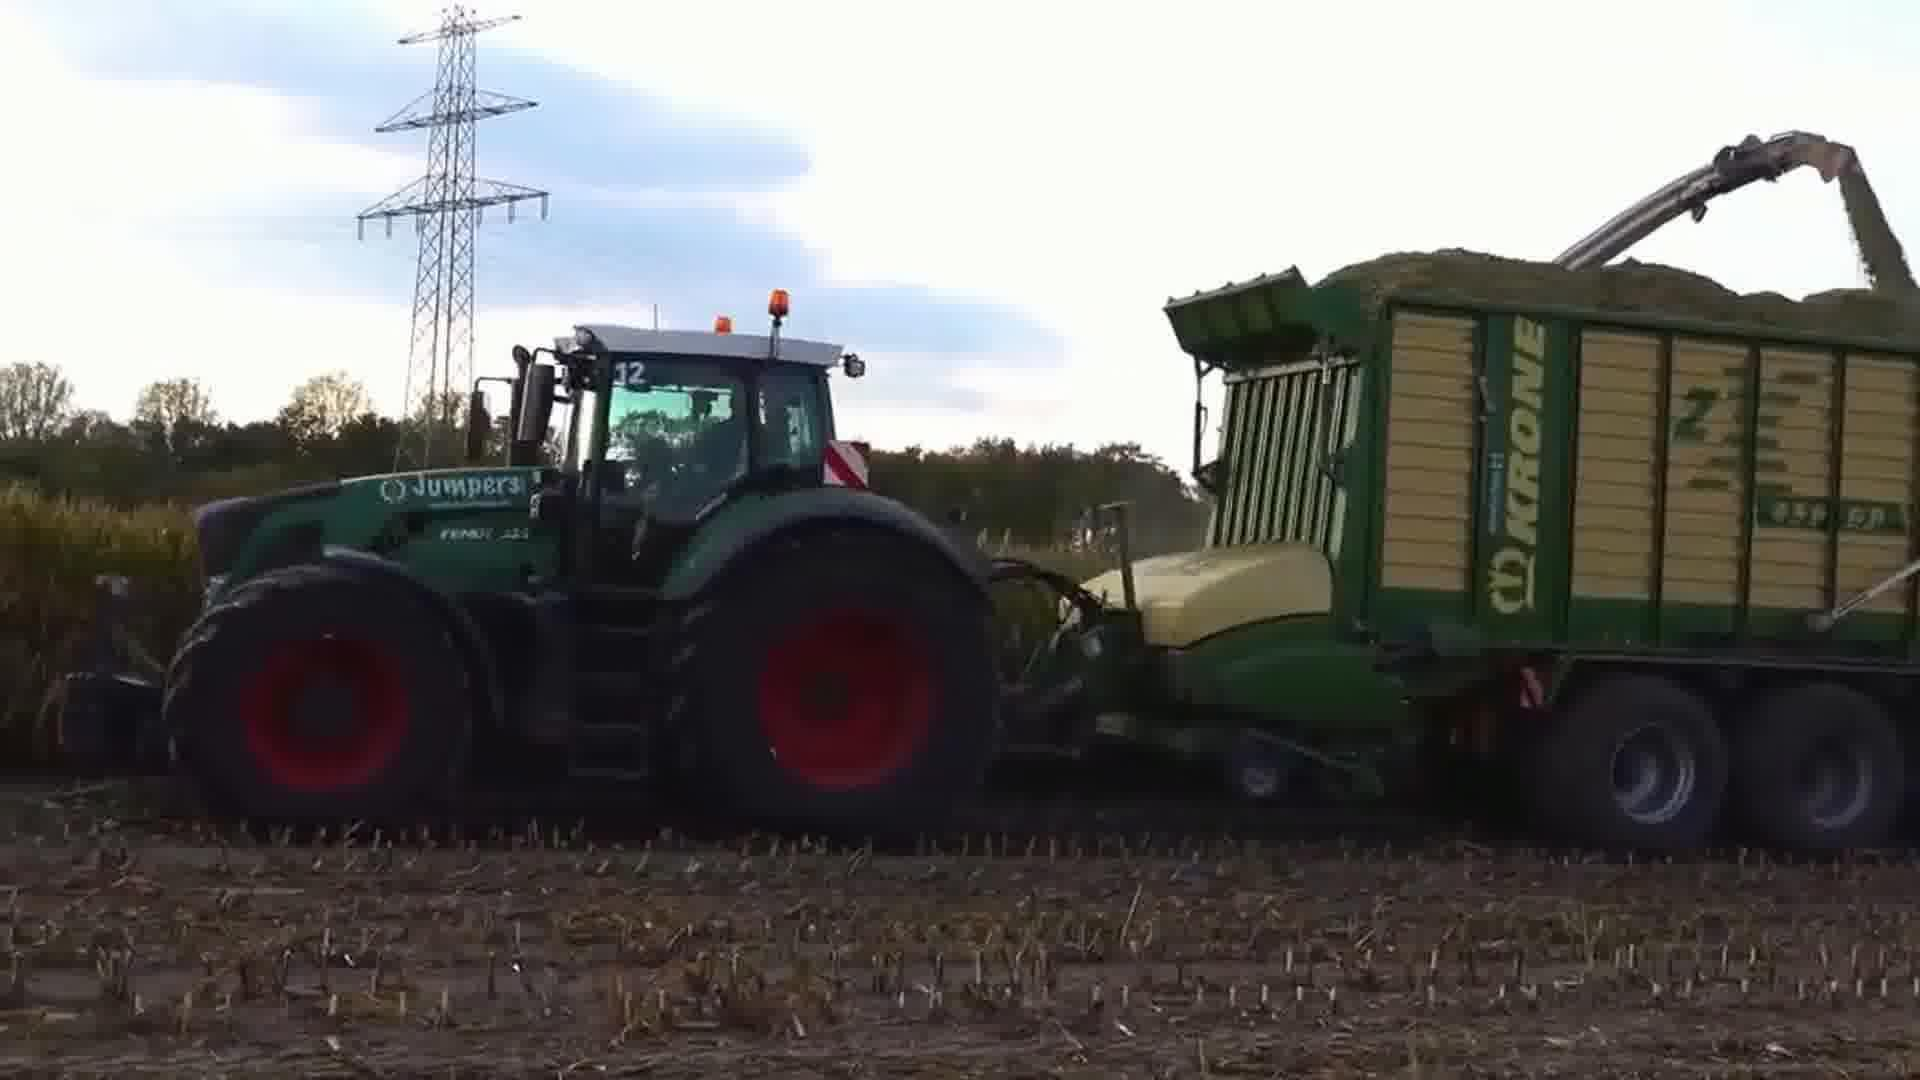tractor: (25, 289, 1026, 857)
trailer: (1031, 232, 1920, 881)
